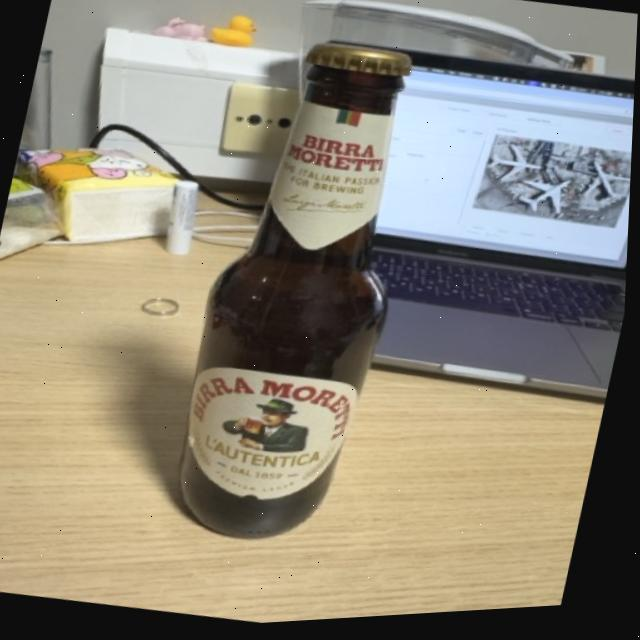beer: (145, 12, 454, 574)
